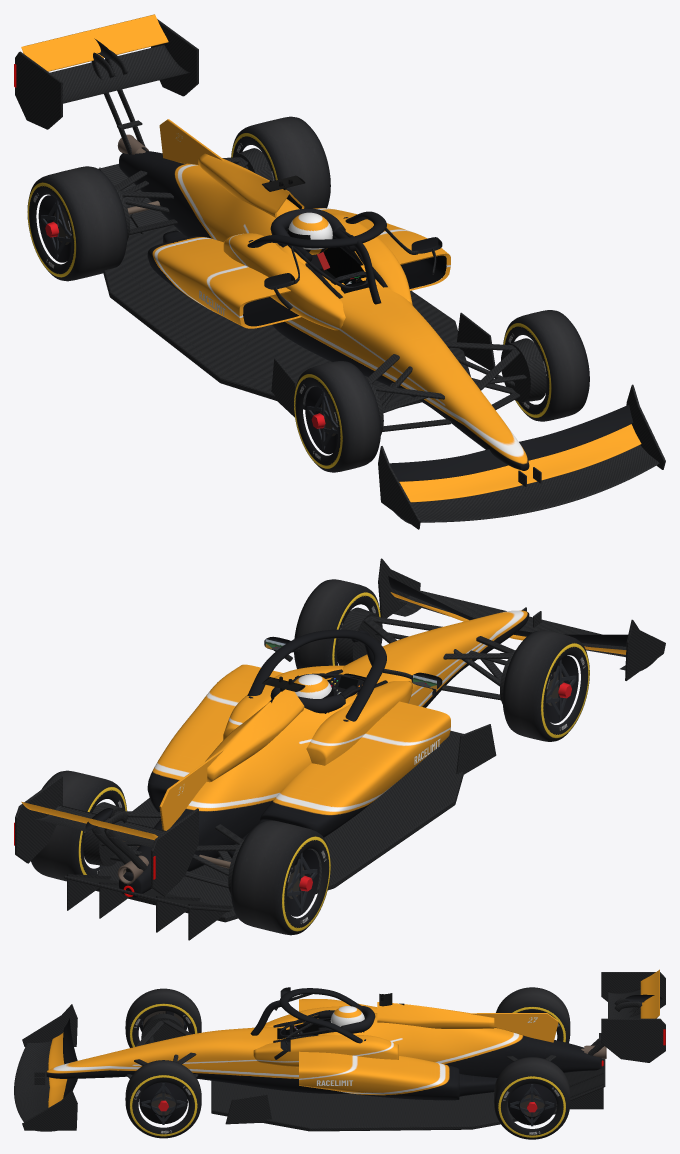
File: car_2026.glb
The picture shows the model from 3 angles, top to bottom: view 1: azimuth 30°, elevation 25°; view 2: azimuth 150°, elevation 25°; view 3: azimuth 270°, elevation 25°; orthographic projection. The views are drawn at different scales.
Parts seen in each view (by area): view 1: RL_Car, RL_HideInCockpit_0, RL_WheelSpin_RR, RL_WheelSpin_FR, RL_WheelSpin_FL, RL_WheelSpin_RL, RL_HideInCockpit_4, RL_HideInCockpit_8; view 2: RL_Car, RL_HideInCockpit_0, RL_WheelSpin_RR, RL_WheelSpin_FR, RL_WheelSpin_FL, RL_WheelSpin_RL, RL_HideInCockpit_4; view 3: RL_Car, RL_HideInCockpit_0, RL_WheelSpin_RL, RL_WheelSpin_FL, RL_WheelSpin_FR, RL_WheelSpin_RR, RL_HideInCockpit_4, RL_HideInCockpit_3.
Boxes of the visible parts, left/top/right/bottom form: RL_Car: left=14, top=14, right=665, bottom=529; RL_HideInCockpit_0: left=119, top=151, right=529, bottom=470; RL_WheelSpin_RR: left=27, top=166, right=130, bottom=281; RL_WheelSpin_FR: left=294, top=361, right=383, bottom=472; RL_WheelSpin_FL: left=501, top=310, right=589, bottom=421; RL_WheelSpin_RL: left=231, top=116, right=330, bottom=208; RL_HideInCockpit_4: left=288, top=212, right=332, bottom=254; RL_HideInCockpit_8: left=323, top=247, right=363, bottom=277; RL_Car: left=14, top=558, right=665, bottom=940; RL_HideInCockpit_0: left=119, top=610, right=529, bottom=897; RL_WheelSpin_RR: left=228, top=820, right=330, bottom=935; RL_WheelSpin_FR: left=500, top=630, right=589, bottom=741; RL_WheelSpin_FL: left=294, top=579, right=382, bottom=668; RL_WheelSpin_RL: left=31, top=770, right=128, bottom=881; RL_HideInCockpit_4: left=294, top=674, right=331, bottom=698; RL_Car: left=14, top=969, right=665, bottom=1131; RL_HideInCockpit_0: left=46, top=1013, right=601, bottom=1093; RL_WheelSpin_RL: left=494, top=1057, right=570, bottom=1139; RL_WheelSpin_FL: left=125, top=1060, right=201, bottom=1138; RL_WheelSpin_FR: left=125, top=988, right=201, bottom=1047; RL_WheelSpin_RR: left=494, top=987, right=570, bottom=1043; RL_HideInCockpit_4: left=330, top=1006, right=364, bottom=1026; RL_HideInCockpit_3: left=280, top=1010, right=334, bottom=1037.
Bounding box in the file's own units: 1.95 × 1.08 × 6.01.
Materials: 69 (16 with a texture image).
